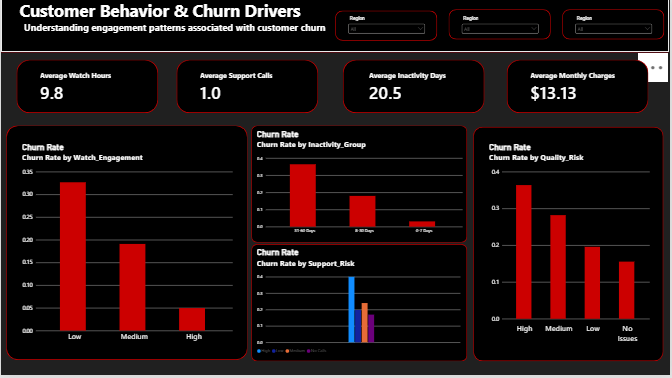

Layout of this report page (visuals, bound fields, positions):
{"tool":"powerbi","page":{"name":"Page 2","canvas":[1920,1080],"ordinal":1},"visuals":[{"type":"shape","box":[0,0,1916.7,153.3],"z":0},{"type":"textbox","box":[0,0,1916.7,153.3],"z":1000},{"type":"shape","box":[43.6,175.3,406.7,153.3],"z":2000},{"type":"shape","box":[1450.3,175.3,406.7,153.3],"z":3000},{"type":"shape","box":[980.3,175.3,406.7,153.3],"z":4000},{"type":"shape","box":[503.6,175.3,406.7,153.3],"z":5000},{"type":"shape","box":[13.3,364.4,693.3,673.3],"z":6000},{"type":"shape","box":[716.7,361.1,620,336.6],"z":7000},{"type":"shape","box":[720,704.4,620,336.6],"z":8000},{"type":"shape","box":[1356.7,367.8,546.6,673.3],"z":9000},{"type":"shape","box":[960,33.3,293.3,86.7],"z":10000},{"type":"shape","box":[1610,30,293.3,86.6],"z":11000},{"type":"shape","box":[1286.7,30,293.3,86.6],"z":12000},{"type":"cardVisual","fields":{"Data":["OTT_Customer_Churn_5000.Average Watch Hours"]},"box":[96.7,176.7,300,153.3],"z":13000},{"type":"cardVisual","fields":{"Data":["OTT_Customer_Churn_5000.Average Monthly Charges"]},"box":[1503.3,176.7,300,153.3],"z":14000},{"type":"cardVisual","fields":{"Data":["OTT_Customer_Churn_5000.Average Inactivity Days"]},"box":[1040,176.7,300,153.3],"z":15000},{"type":"cardVisual","fields":{"Data":["OTT_Customer_Churn_5000.Average Support Calls"]},"box":[556.7,176.7,300,153.3],"z":16000},{"type":"clusteredColumnChart","title":"Churn Rate ","fields":{"Category":["OTT_Customer_Churn_5000.Watch_Engagement"],"Y":["OTT_Customer_Churn_5000.Churn Rate"]},"box":[43.3,396.7,636.7,610],"z":17000},{"type":"clusteredColumnChart","title":"Churn Rate ","fields":{"Series":["OTT_Customer_Churn_5000.Support_Risk"],"Y":["OTT_Customer_Churn_5000.Churn Rate"]},"box":[720,700,616.7,340],"z":18000},{"type":"clusteredColumnChart","title":"Churn Rate ","fields":{"Category":["OTT_Customer_Churn_5000.Inactivity_Group"],"Y":["OTT_Customer_Churn_5000.Churn Rate"]},"box":[720,360,623.3,336.7],"z":19000},{"type":"clusteredColumnChart","title":"Churn Rate ","fields":{"Category":["OTT_Customer_Churn_5000.Quality_Risk"],"Y":["OTT_Customer_Churn_5000.Churn Rate"]},"box":[1386.7,396.7,493.3,610],"z":20000},{"type":"slicer","fields":{"Values":["OTT_Customer_Churn_5000.Region"]},"box":[990.7,48.1,229.6,53.7],"z":21000},{"type":"slicer","fields":{"Values":["OTT_Customer_Churn_5000.Region"]},"box":[1642.6,48.1,229.6,53.7],"z":22000},{"type":"slicer","fields":{"Values":["OTT_Customer_Churn_5000.Region"]},"box":[1318.5,46.3,229.6,53.7],"z":23000}]}

Visuals, with their boxes in screenshot pixels (x1, y1, x2, y2), scaled from the page's 1920x1080 canvas onto the 672x378 screenshot:
shape: x1=0, y1=0, x2=671, y2=54
textbox: x1=0, y1=0, x2=671, y2=54
shape: x1=15, y1=61, x2=158, y2=115
shape: x1=508, y1=61, x2=650, y2=115
shape: x1=343, y1=61, x2=485, y2=115
shape: x1=176, y1=61, x2=319, y2=115
shape: x1=5, y1=128, x2=247, y2=363
shape: x1=251, y1=126, x2=468, y2=244
shape: x1=252, y1=247, x2=469, y2=364
shape: x1=475, y1=129, x2=666, y2=364
shape: x1=336, y1=12, x2=439, y2=42
shape: x1=564, y1=10, x2=666, y2=41
shape: x1=450, y1=10, x2=553, y2=41
cardVisual - OTT_Customer_Churn_5000.Average Watch Hours: x1=34, y1=62, x2=139, y2=115
cardVisual - OTT_Customer_Churn_5000.Average Monthly Charges: x1=526, y1=62, x2=631, y2=115
cardVisual - OTT_Customer_Churn_5000.Average Inactivity Days: x1=364, y1=62, x2=469, y2=115
cardVisual - OTT_Customer_Churn_5000.Average Support Calls: x1=195, y1=62, x2=300, y2=115
"Churn Rate " clusteredColumnChart: x1=15, y1=139, x2=238, y2=352
"Churn Rate " clusteredColumnChart: x1=252, y1=245, x2=468, y2=364
"Churn Rate " clusteredColumnChart: x1=252, y1=126, x2=470, y2=244
"Churn Rate " clusteredColumnChart: x1=485, y1=139, x2=658, y2=352
slicer - OTT_Customer_Churn_5000.Region: x1=347, y1=17, x2=427, y2=36
slicer - OTT_Customer_Churn_5000.Region: x1=575, y1=17, x2=655, y2=36
slicer - OTT_Customer_Churn_5000.Region: x1=461, y1=16, x2=542, y2=35
